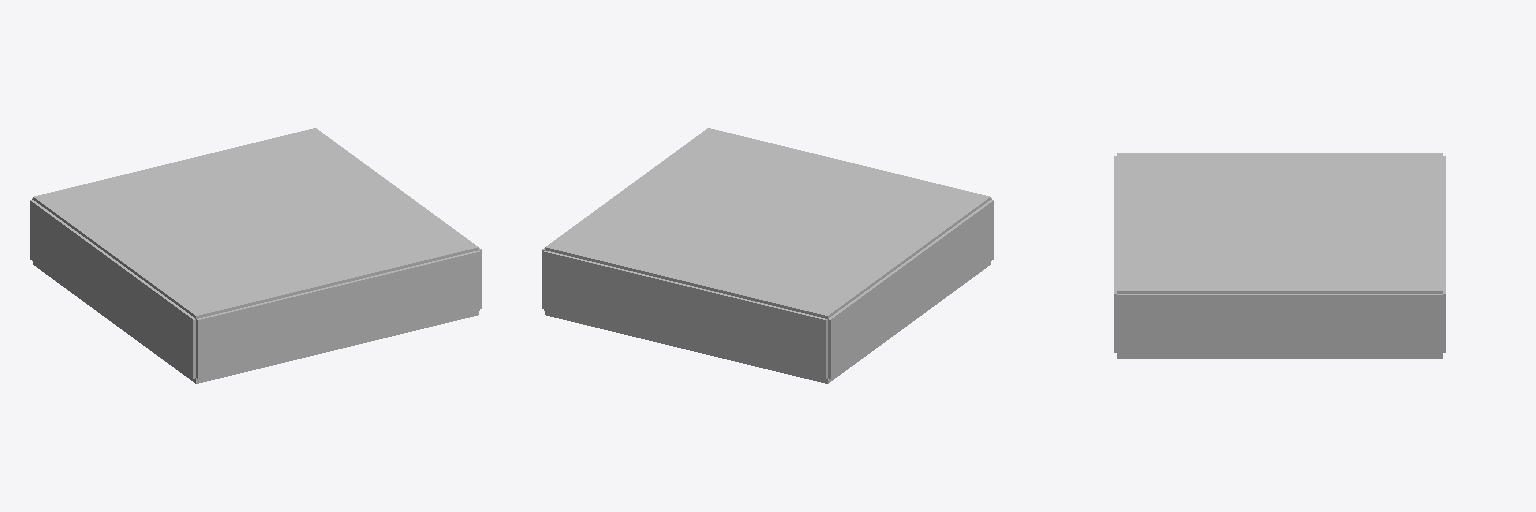
The model's file is level.obj.
3 renders of one model, left to right at view 1: azimuth 30°, elevation 25°; view 2: azimuth 150°, elevation 25°; view 3: azimuth 270°, elevation 25°, orthographic.
Parts seen in each view (by area): view 1: Cube.008, Cube, Cube.015, Cube.013; view 2: Cube.008, Cube.002_Cube.006, Cube.015, Cube.013; view 3: Cube.008, Cube.014, Cube.013, Cube, Cube.002_Cube.006.
Boxes of the visible parts, box(x1,y1,x2,y2) form: Cube.008: box(33, 128, 478, 318); Cube: box(196, 250, 479, 378); Cube.015: box(30, 200, 195, 378); Cube.013: box(33, 262, 478, 383); Cube.008: box(545, 128, 990, 318); Cube.002_Cube.006: box(544, 250, 827, 378); Cube.015: box(828, 200, 993, 378); Cube.013: box(545, 262, 990, 383); Cube.008: box(1117, 153, 1442, 293); Cube.014: box(1117, 294, 1442, 353); Cube.013: box(1117, 354, 1442, 358); Cube: box(1114, 156, 1116, 352); Cube.002_Cube.006: box(1443, 156, 1445, 352).
Size of the model in its own units: 102 by 23 by 102.